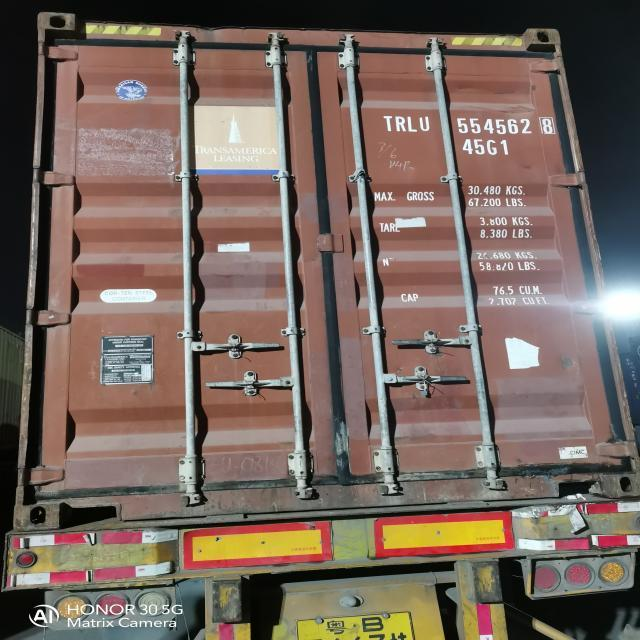ISO: (460, 140, 510, 156)
container_number: (387, 114, 550, 138)
